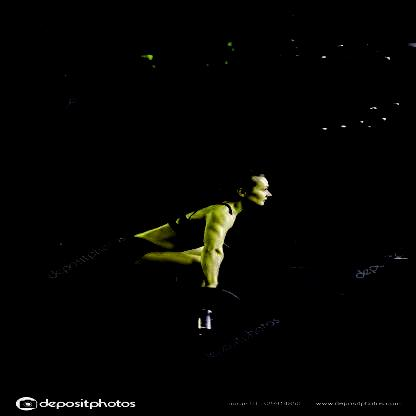Barbell: (190, 323, 219, 343)
